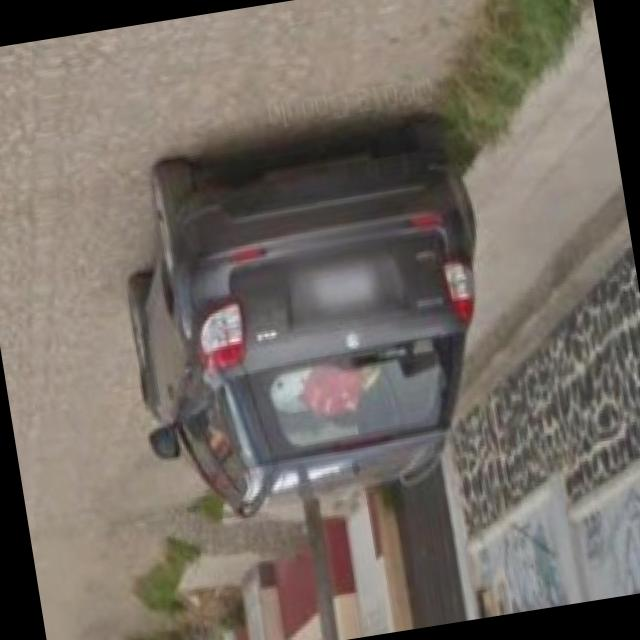car: (94, 99, 524, 538)
